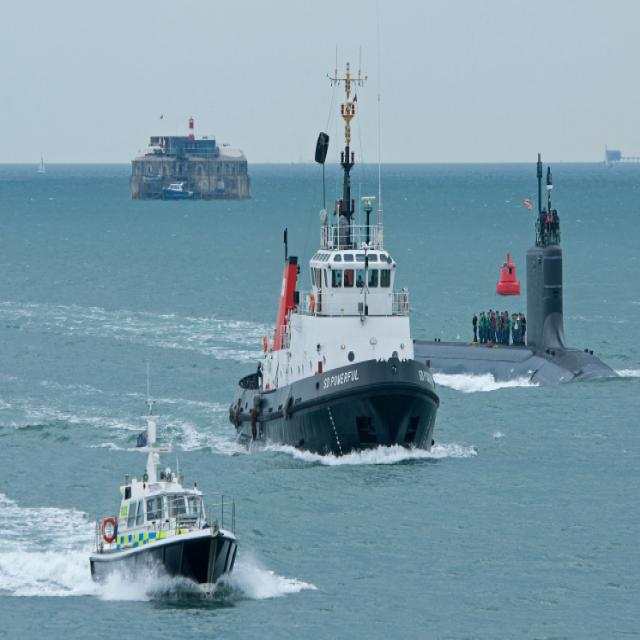submarine: (415, 155, 628, 381)
